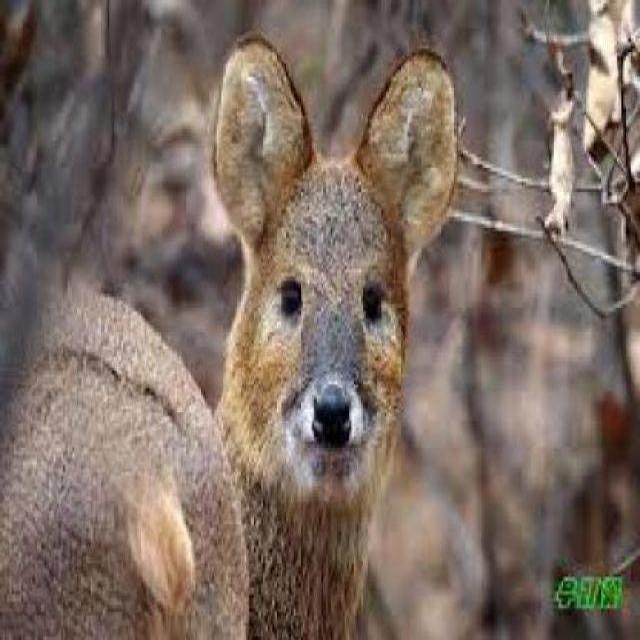deer: (200, 34, 468, 637)
